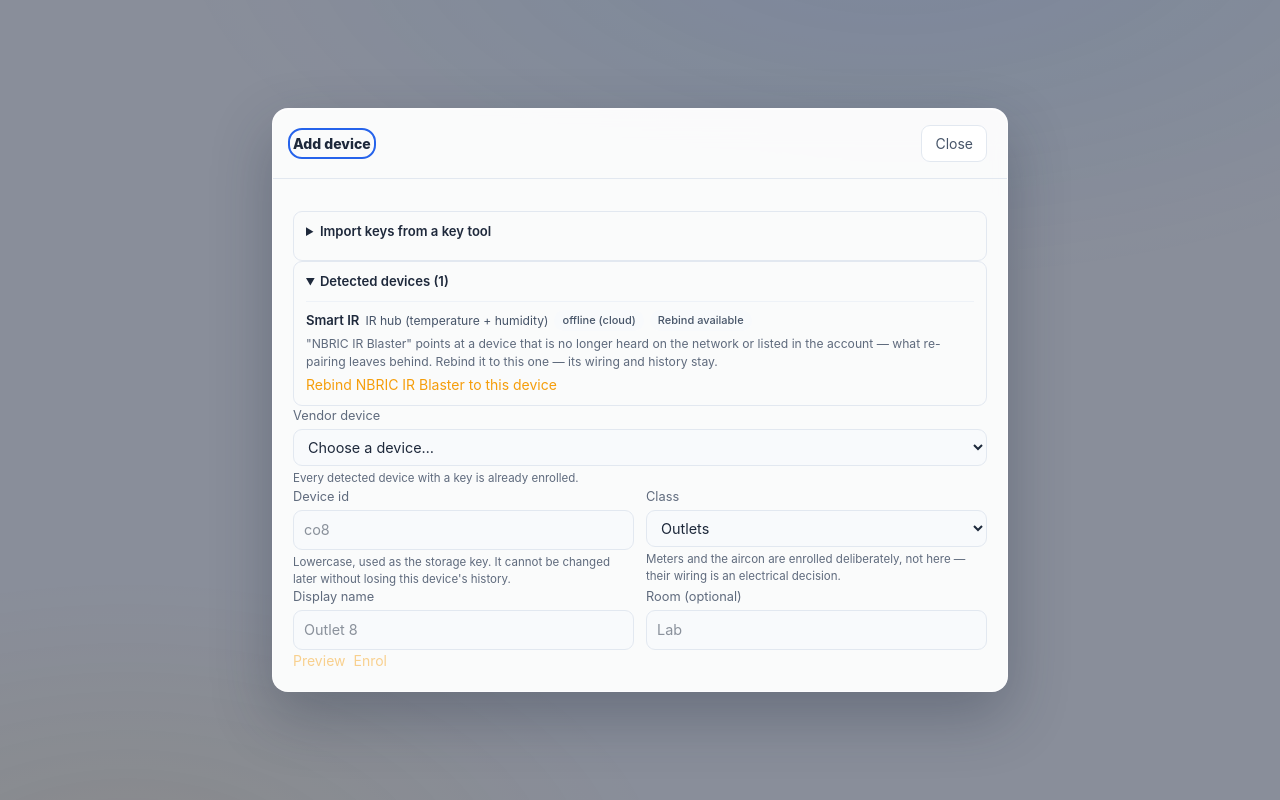
Test case: EnrollWizard — detected devices › shows a refused rebind with the step it failed at
The width and height of the screenshot is (1280, 800).
Click the button "Rebind NBRIC IR Blaster to this device" at coordinates (431, 385), box [306, 374, 557, 395]
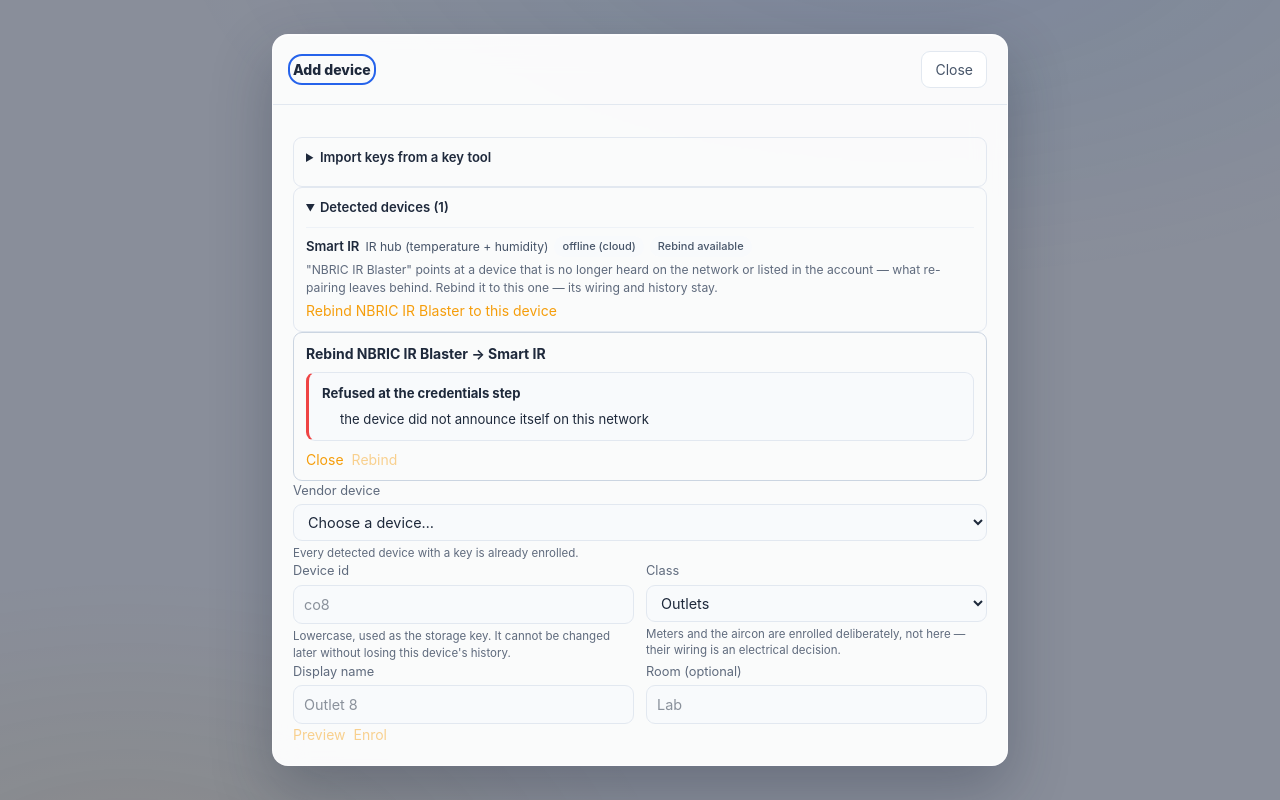
Expected: the message shows "credentials step", [306, 372, 974, 440]
Expected: the list item "the device did not announce itself on this network" is shown, [340, 411, 649, 427]
